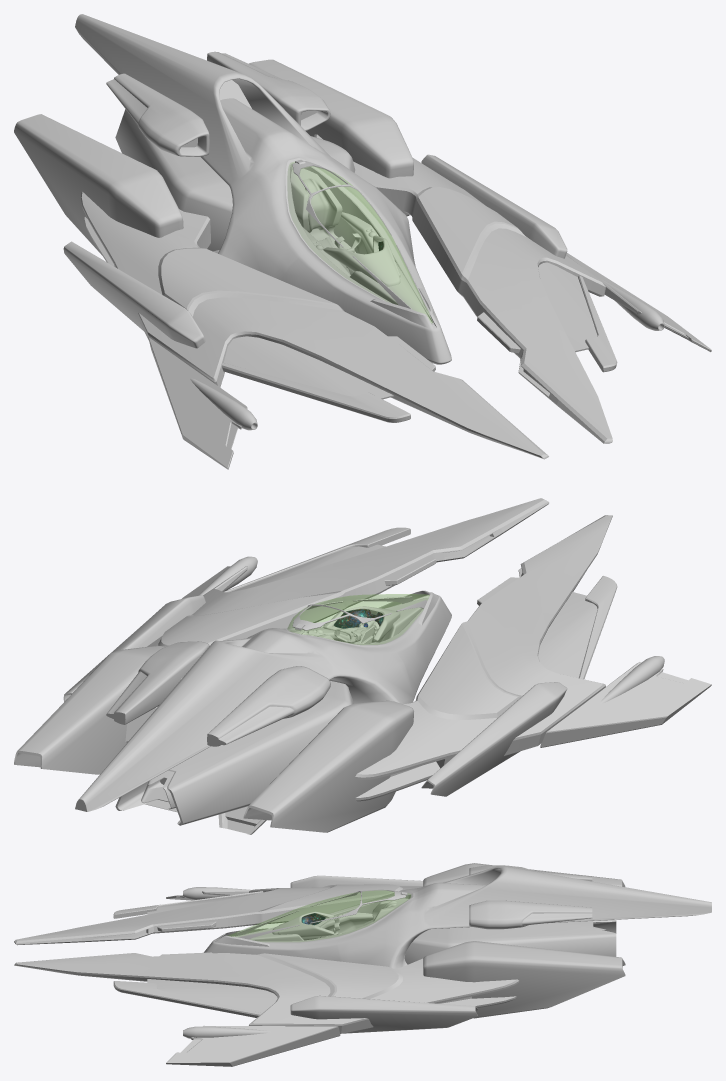
File: Modular_Alien-Fighter.FBX
3 renders of one model, top to bottom at view 1: azimuth 30°, elevation 25°; view 2: azimuth 150°, elevation 25°; view 3: azimuth 270°, elevation 25°, orthographic. The views are drawn at different scales.
Parts seen in each view (by area): view 1: Modular_Alien-Fighter, MAF_Glass, MAF_Laser-R, MAF_Engine-R, MAF_Module-R, MAF_Engine-L, MAF_Module-L, MAF_Laser-L; view 2: Modular_Alien-Fighter, MAF_Laser-R, MAF_Engine-R, MAF_Glass, MAF_Module-R, MAF_Module-L, MAF_Engine-L, MAF_Laser-L, MAF_HUD; view 3: Modular_Alien-Fighter, MAF_Laser-L, MAF_Glass, MAF_Engine-L, MAF_Module-L, MAF_Engine-R, MAF_Laser-R, MAF_Module-R.
Part boxes in pixels (x1,y1,x2,y2): Modular_Alien-Fighter: [14, 14, 617, 459]; MAF_Glass: [287, 162, 432, 322]; MAF_Laser-R: [148, 337, 257, 469]; MAF_Engine-R: [63, 241, 205, 348]; MAF_Module-R: [106, 73, 209, 156]; MAF_Engine-L: [421, 154, 567, 258]; MAF_Module-L: [207, 51, 330, 130]; MAF_Laser-L: [566, 253, 711, 351]; Modular_Alien-Fighter: [14, 498, 617, 834]; MAF_Laser-R: [540, 656, 711, 747]; MAF_Engine-R: [421, 682, 567, 796]; MAF_Glass: [287, 594, 429, 644]; MAF_Module-R: [207, 666, 330, 746]; MAF_Module-L: [106, 641, 209, 724]; MAF_Engine-L: [63, 595, 205, 701]; MAF_Laser-L: [182, 556, 257, 598]; MAF_HUD: [334, 609, 383, 628]; Modular_Alien-Fighter: [14, 863, 711, 1033]; MAF_Laser-L: [166, 1025, 340, 1066]; MAF_Glass: [228, 890, 410, 941]; MAF_Engine-L: [290, 995, 477, 1033]; MAF_Module-L: [469, 900, 592, 929]; MAF_Engine-R: [290, 875, 423, 887]; MAF_Laser-R: [166, 887, 251, 900]; MAF_Module-R: [469, 865, 592, 881].
Size of the model in its own units: 765 by 1357 by 299.
